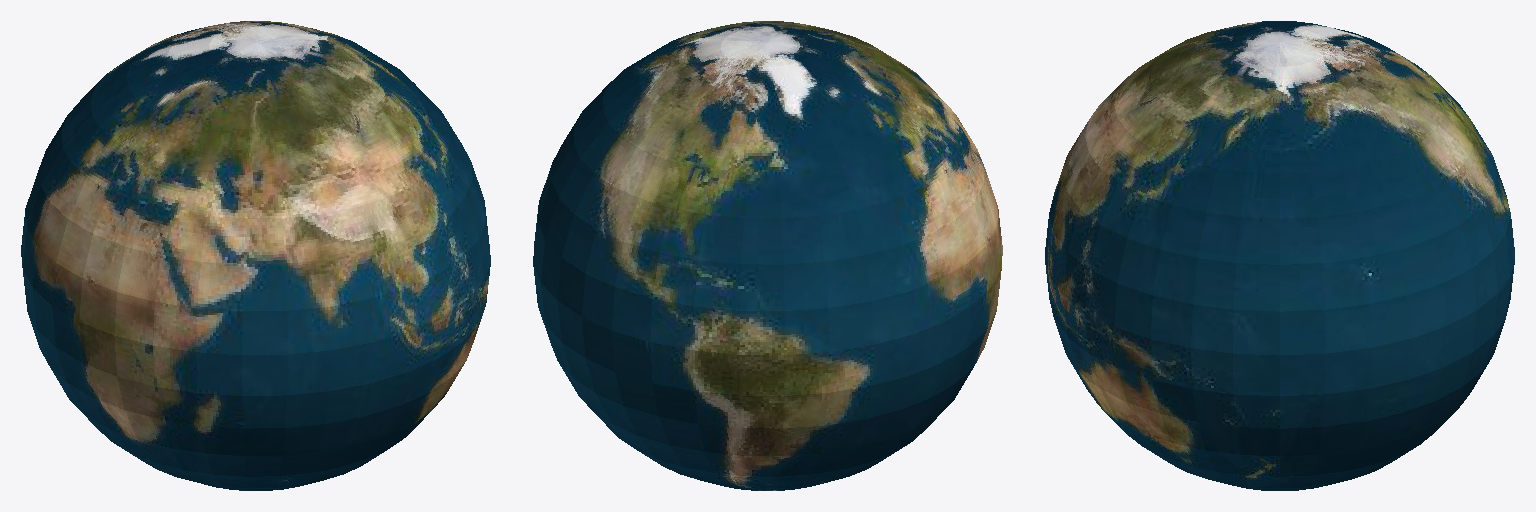
3 renders of one model, left to right at view 1: azimuth 30°, elevation 25°; view 2: azimuth 150°, elevation 25°; view 3: azimuth 270°, elevation 25°, orthographic.
Visible parts, largest first — view 1: Default object_1; view 2: Default object_1; view 3: Default object_1.
Part boxes in pixels (x1,y1,x2,y2): Default object_1: (21,21,490,490); Default object_1: (533,21,1002,490); Default object_1: (1045,21,1514,490).
Bounding box in the file's own units: 20 × 20 × 20.
Materials: 1 (1 with a texture image).